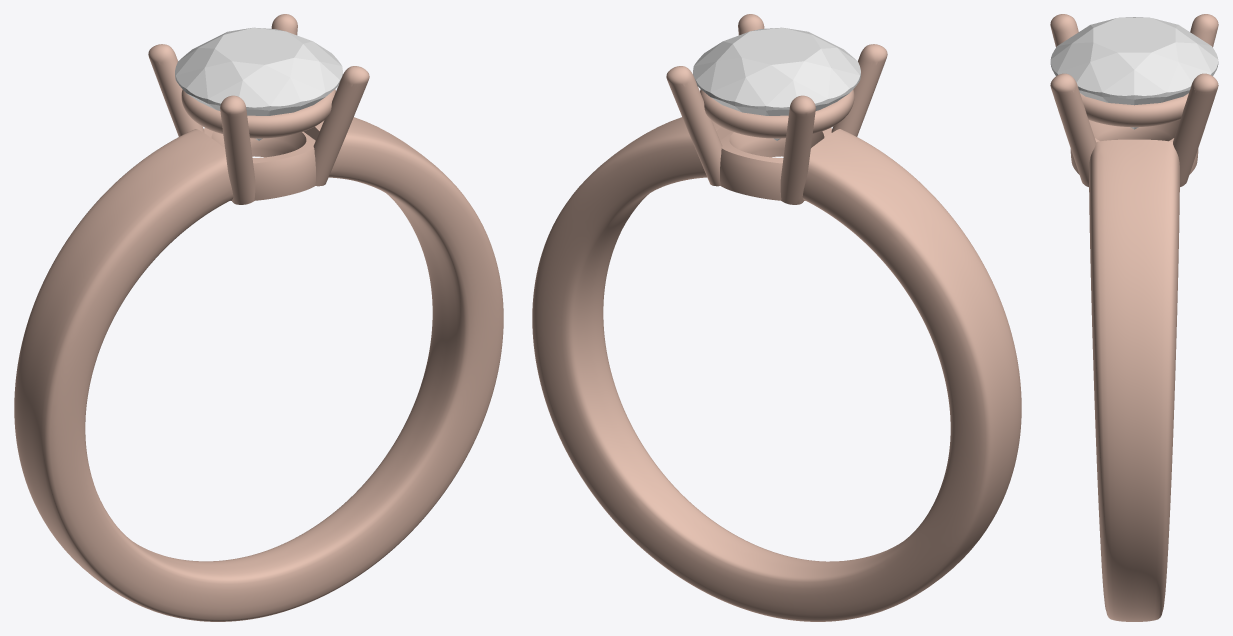
Rendered from diamond-round-rosegold-4prong-straighttaperedband-nosidestones.glb.
3 renders of one model, left to right at view 1: azimuth 30°, elevation 25°; view 2: azimuth 150°, elevation 25°; view 3: azimuth 270°, elevation 25°, orthographic.
Visible parts, largest first — view 1: metal, stone; view 2: metal, stone; view 3: metal, stone.
Part boxes in pixels (<box>): metal: <box>14,14,503,621</box>; stone: <box>175,27,342,140</box>; metal: <box>532,14,1021,621</box>; stone: <box>693,27,860,140</box>; metal: <box>1050,14,1218,621</box>; stone: <box>1050,17,1218,129</box>.
Size of the model in its own units: 20.51 by 23.82 by 6.45.
